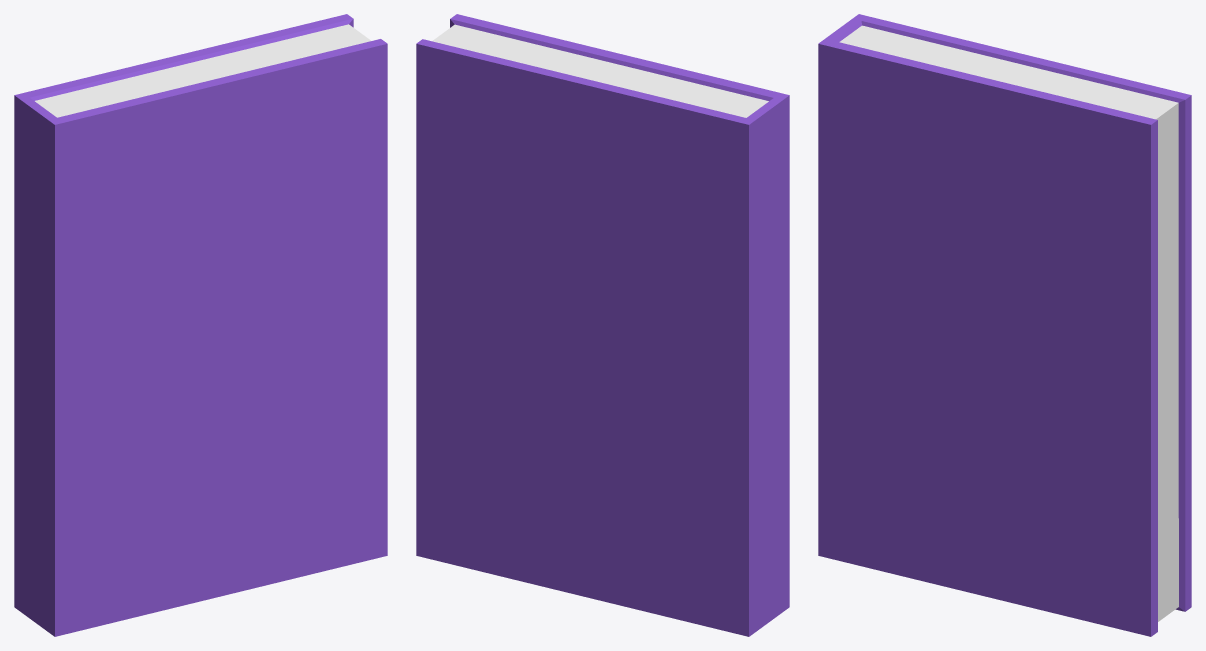
File: book.fbx
3 renders of one model, left to right at view 1: azimuth 30°, elevation 25°; view 2: azimuth 150°, elevation 25°; view 3: azimuth 330°, elevation 25°, orthographic.
Visible parts, largest first — view 1: Book; view 2: Book; view 3: Book.
Boxes of the visible parts, bbox=[...] form: Book: bbox=[14, 14, 387, 636]; Book: bbox=[416, 14, 789, 636]; Book: bbox=[818, 14, 1191, 636].
Size of the model in its own units: 59.54 by 87.52 by 12.59.
